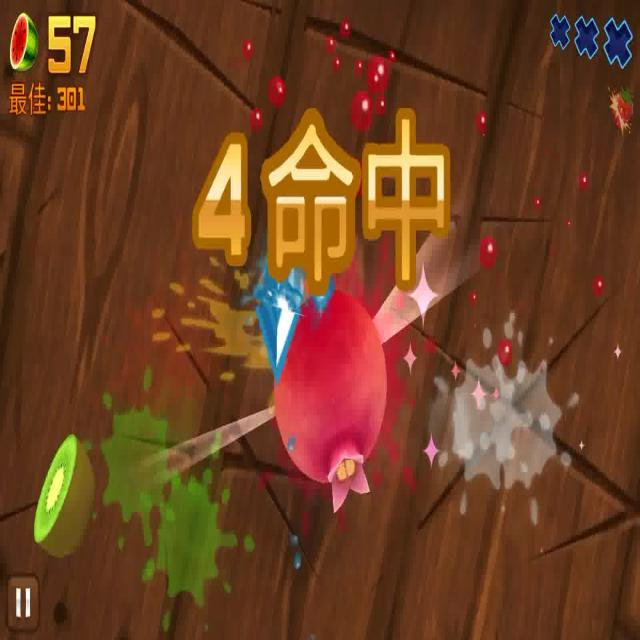fruit: (272, 289, 390, 507), (32, 432, 96, 556)
